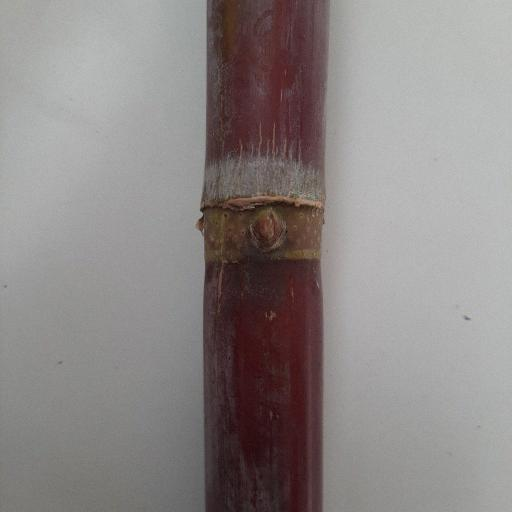Bud: (246, 207, 286, 254)
